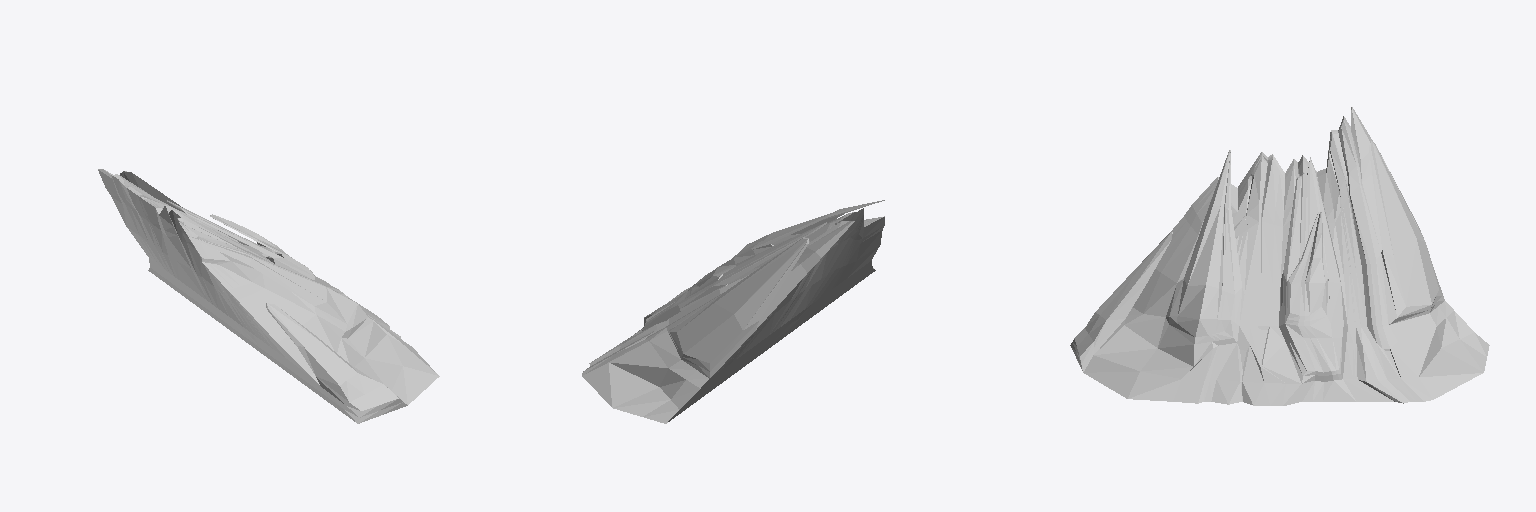
Rendered from steepcrag.obj.
The picture shows the model from 3 angles: view 1: azimuth 30°, elevation 25°; view 2: azimuth 150°, elevation 25°; view 3: azimuth 270°, elevation 25°; orthographic projection.
Visible parts, largest first — view 1: pCube1; view 2: pCube1; view 3: pCube1.
Boxes of the visible parts, x1,y1,x2,y2 form: pCube1: [98, 169, 439, 423]; pCube1: [582, 200, 884, 423]; pCube1: [1070, 107, 1489, 405].
Size of the model in its own units: 124 by 87.31 by 183.